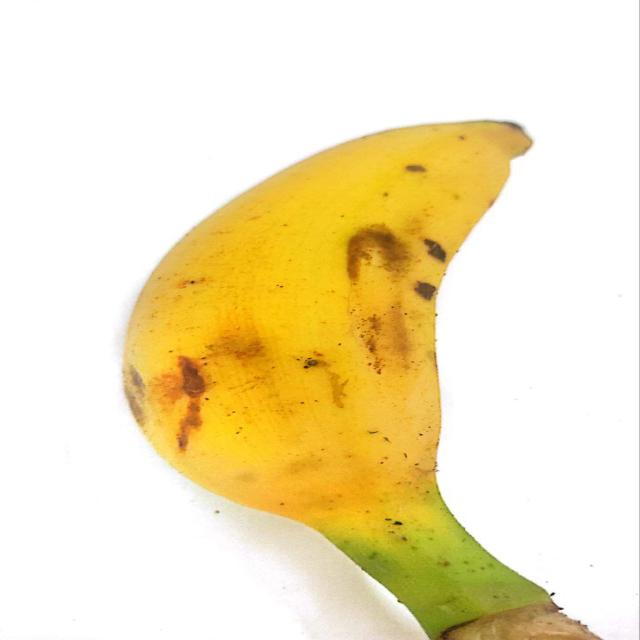fresh_banana: (131, 127, 520, 513)
